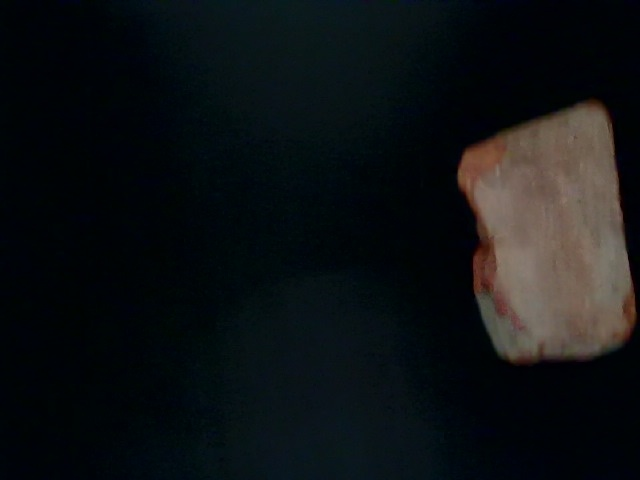KHSLJ: (12, 311, 301, 480)
